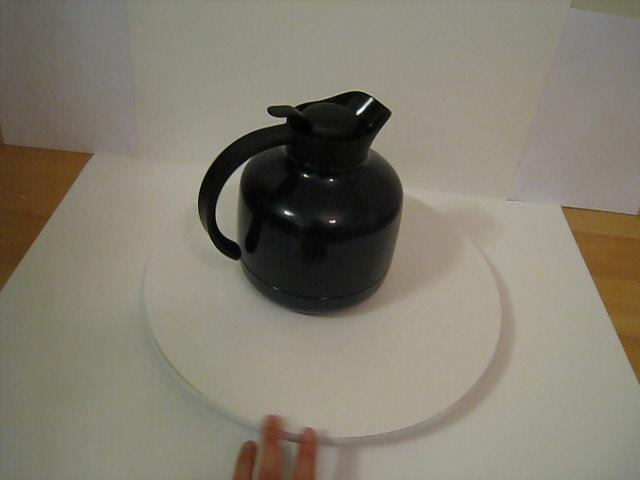pitcher: (195, 85, 407, 322)
